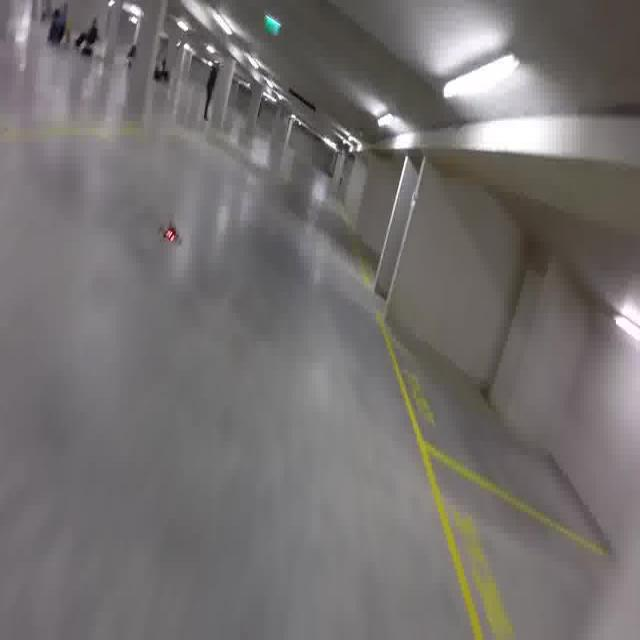drones: (148, 201, 188, 263)
